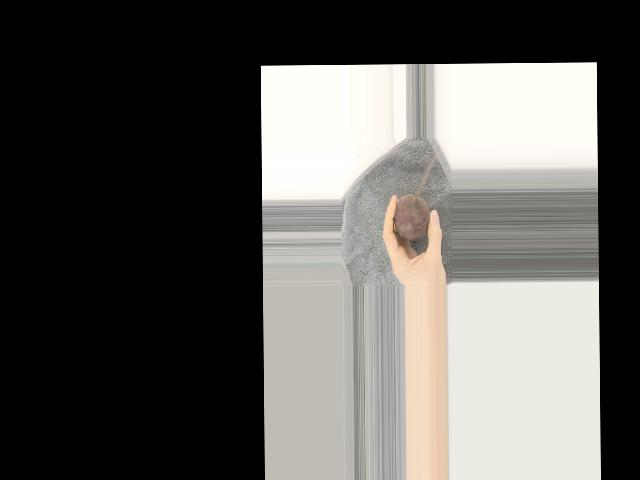beet: (394, 194, 430, 240)
